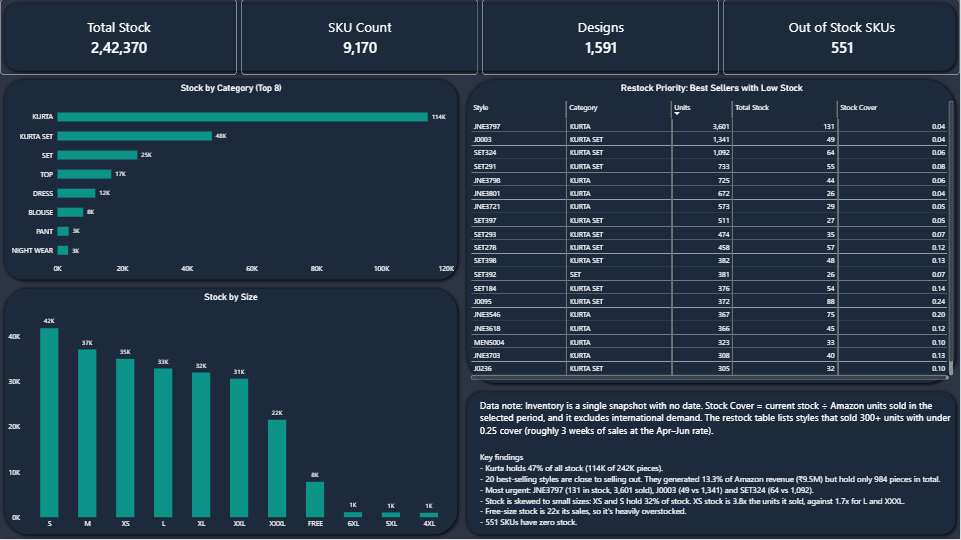

The page's visual inventory and layout, read from the dashboard file:
{"tool":"powerbi","page":{"name":"Stock, restock table","canvas":[1920,1080],"ordinal":5},"visuals":[{"type":"group","id":"g1","title":"Group 1","box":[0,0,1920,1080],"z":0},{"type":"shape","box":[0,152,924,418],"z":0,"group":"g1"},{"type":"cardVisual","fields":{"Data":["_Measures.Total Stock","_Measures.SKU Count","_Measures.Designs","_Measures.Out of Stock SKUs"]},"box":[0,0,1920,152.5],"z":1000},{"type":"shape","box":[0,570,924,510],"z":1000,"group":"g1"},{"type":"barChart","title":"Stock by Category (Top 8)","fields":{"Category":["Dim_Product.Category"],"Y":["_Measures.Total Stock"]},"box":[0,152,924,418],"z":2000},{"type":"shape","box":[925,152.5,995,625],"z":2000,"group":"g1"},{"type":"columnChart","title":"Stock by Size","fields":{"Category":["Inventory.Size"],"Y":["_Measures.Total Stock"]},"box":[0,570,924,510],"z":3000},{"type":"shape","box":[925,777.5,995,302.5],"z":3000,"group":"g1"},{"type":"shape","box":[0,0,1920,152.5],"z":4000,"group":"g1"},{"type":"tableEx","title":"Restock Priority: Best Sellers with Low Stock","fields":{"Values":["Dim_Product.Style","Dim_Product.Category","_Measures.Units","_Measures.Total Stock","_Measures.Stock Cover"]},"box":[925,152.5,997.5,625],"z":4000},{"type":"textbox","box":[960,905,960,175],"z":5000},{"type":"textbox","box":[960,800,960,105],"z":6000}]}

Visuals, with their boxes in screenshot pixels (x1, y1, x2, y2), scaled from the page's 1920x1080 canvas onto the 961x540 screenshot:
"Group 1" group: bbox(0, 0, 960, 539)
shape: bbox(0, 76, 462, 285)
cardVisual - _Measures.Total Stock x _Measures.SKU Count: bbox(0, 0, 960, 76)
shape: bbox(0, 285, 462, 539)
"Stock by Category (Top 8)" barChart: bbox(0, 76, 462, 285)
shape: bbox(463, 76, 960, 389)
"Stock by Size" columnChart: bbox(0, 285, 462, 539)
shape: bbox(463, 389, 960, 539)
shape: bbox(0, 0, 960, 76)
"Restock Priority: Best Sellers with Low Stock" tableEx: bbox(463, 76, 960, 389)
textbox: bbox(480, 452, 960, 539)
textbox: bbox(480, 400, 960, 452)
